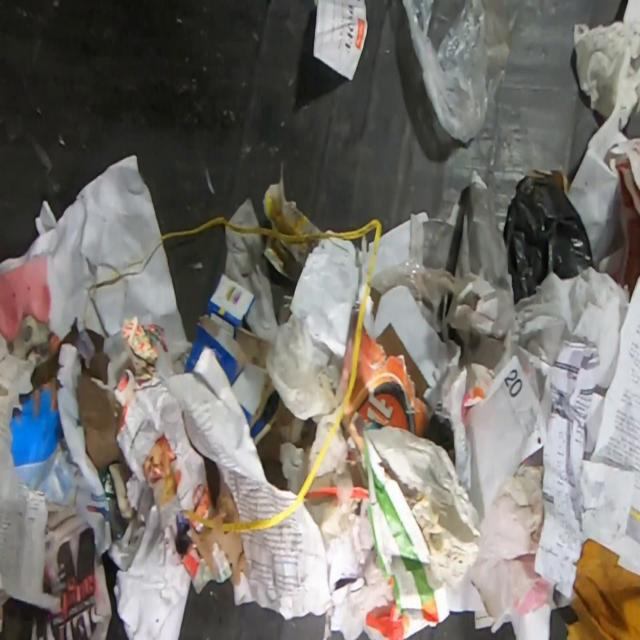cardboard: (182, 269, 286, 446), (349, 321, 435, 438), (565, 538, 640, 640), (573, 20, 640, 130)
soft_plastic: (402, 0, 519, 143), (503, 175, 595, 306), (396, 260, 426, 300)
